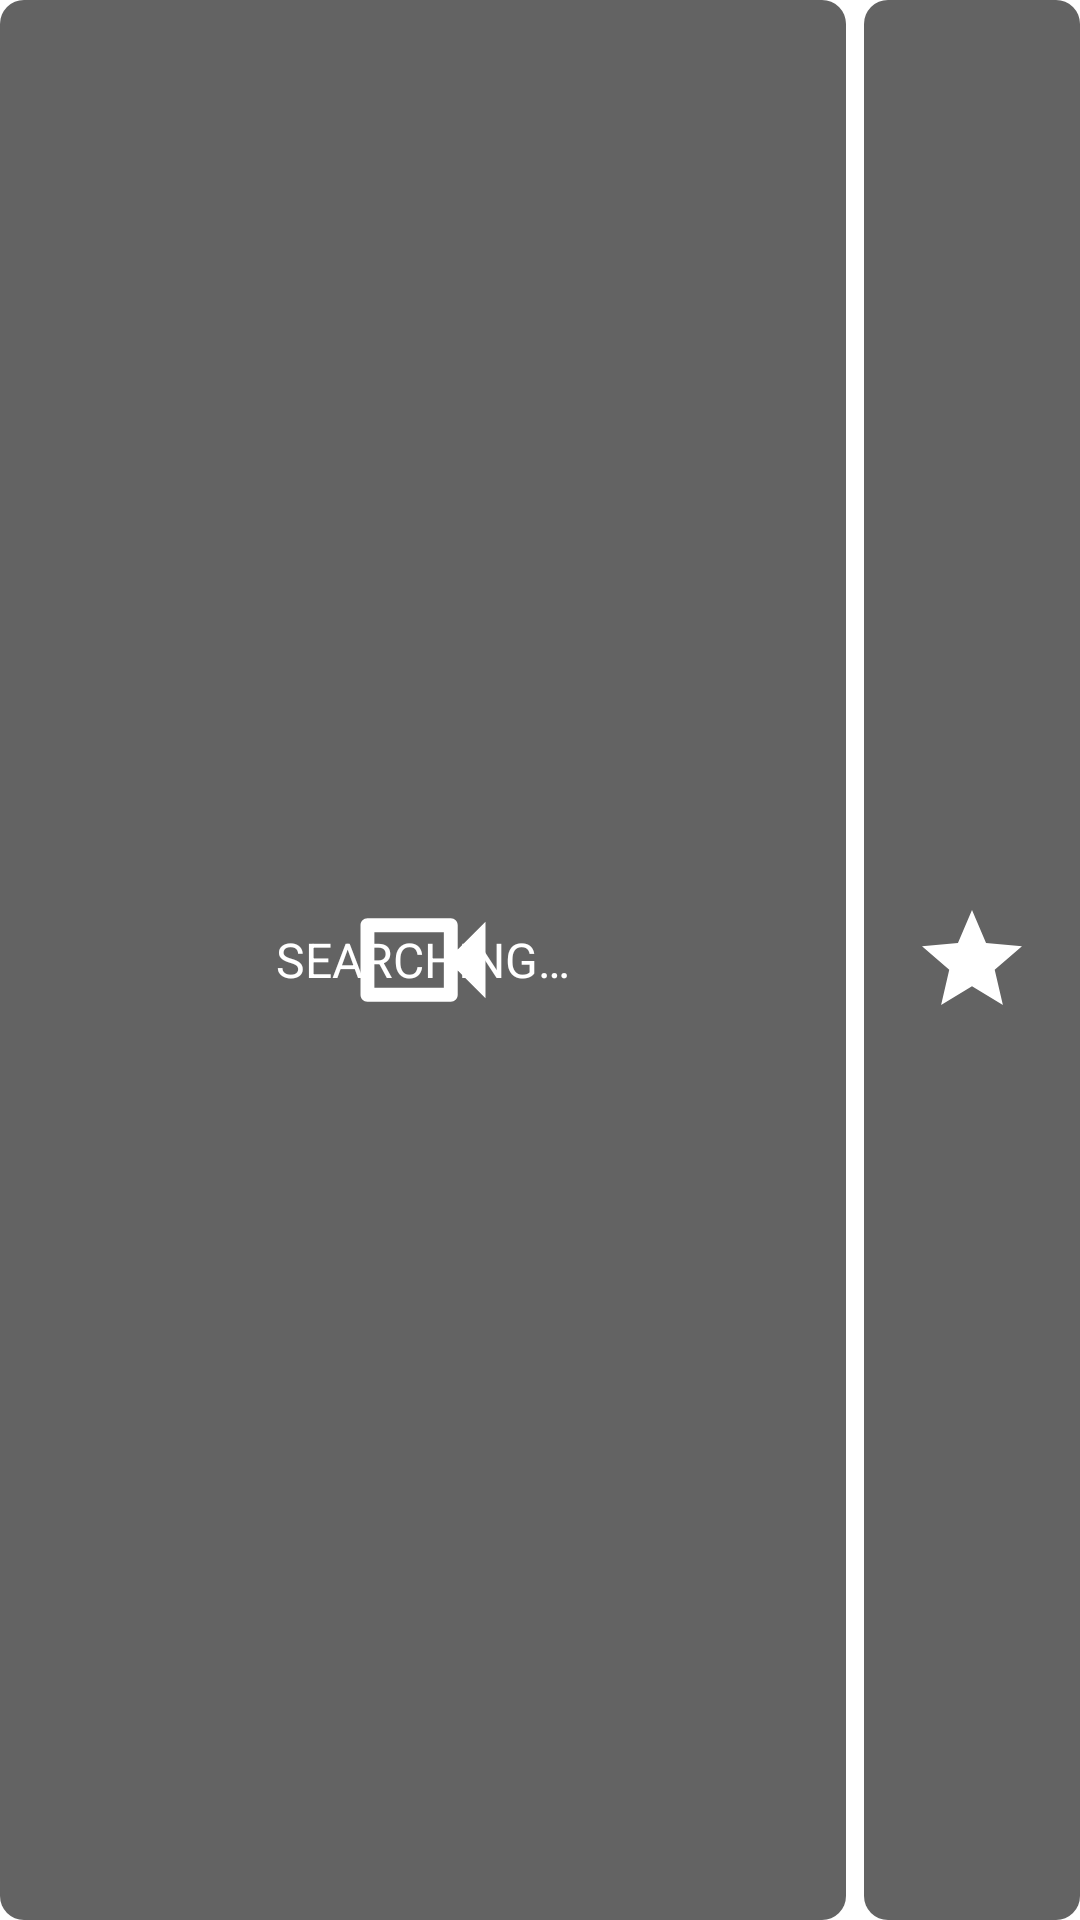

Named icons in this screenshot (1080px x 1920px) and their centers, (x,y):
Add highlight: (972,957)
